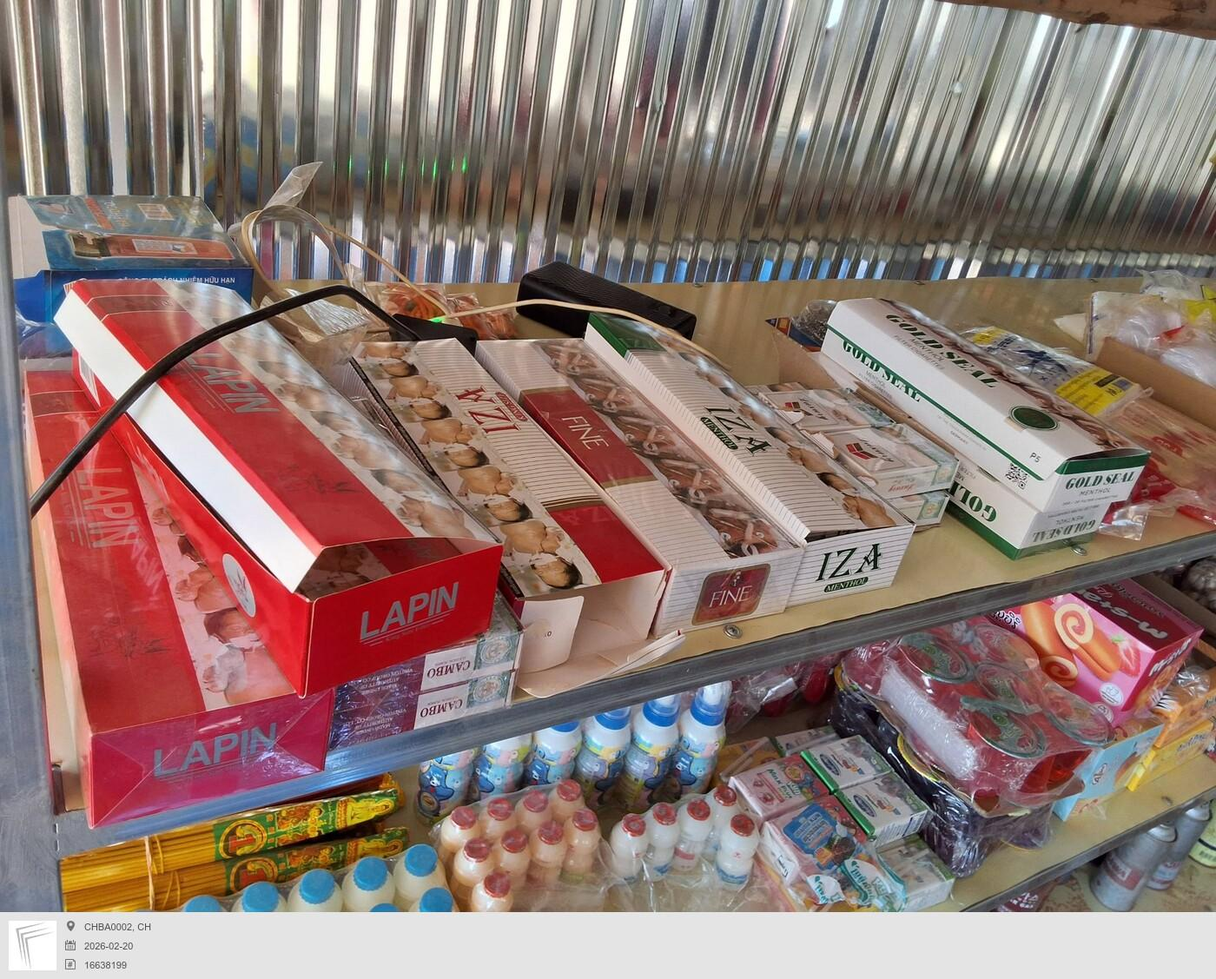cigarette_pack: (63, 277, 501, 678), (12, 349, 330, 831), (345, 330, 656, 652), (476, 341, 797, 623), (586, 316, 898, 591), (835, 300, 1132, 501), (959, 452, 1101, 542), (809, 427, 953, 484), (751, 390, 901, 432), (831, 483, 942, 520)
